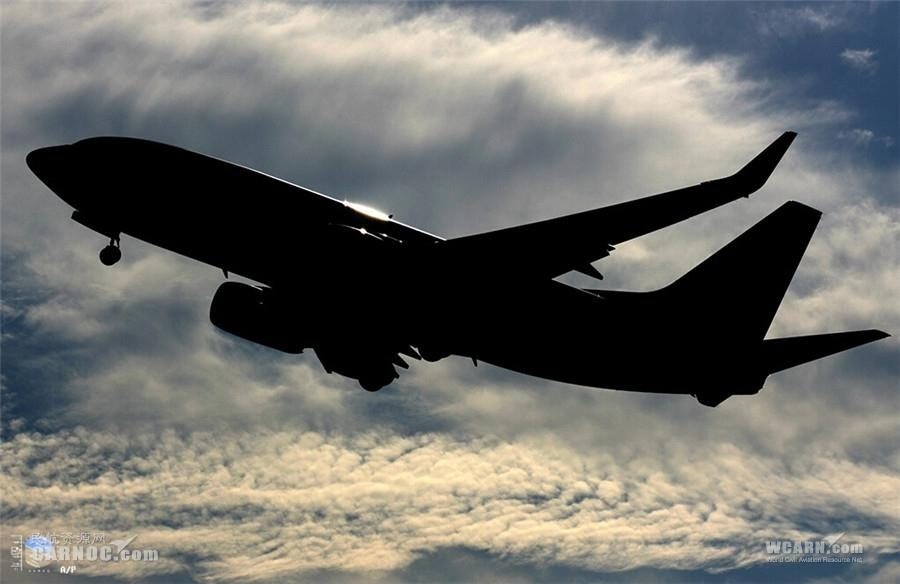airplane: (13, 128, 893, 405)
